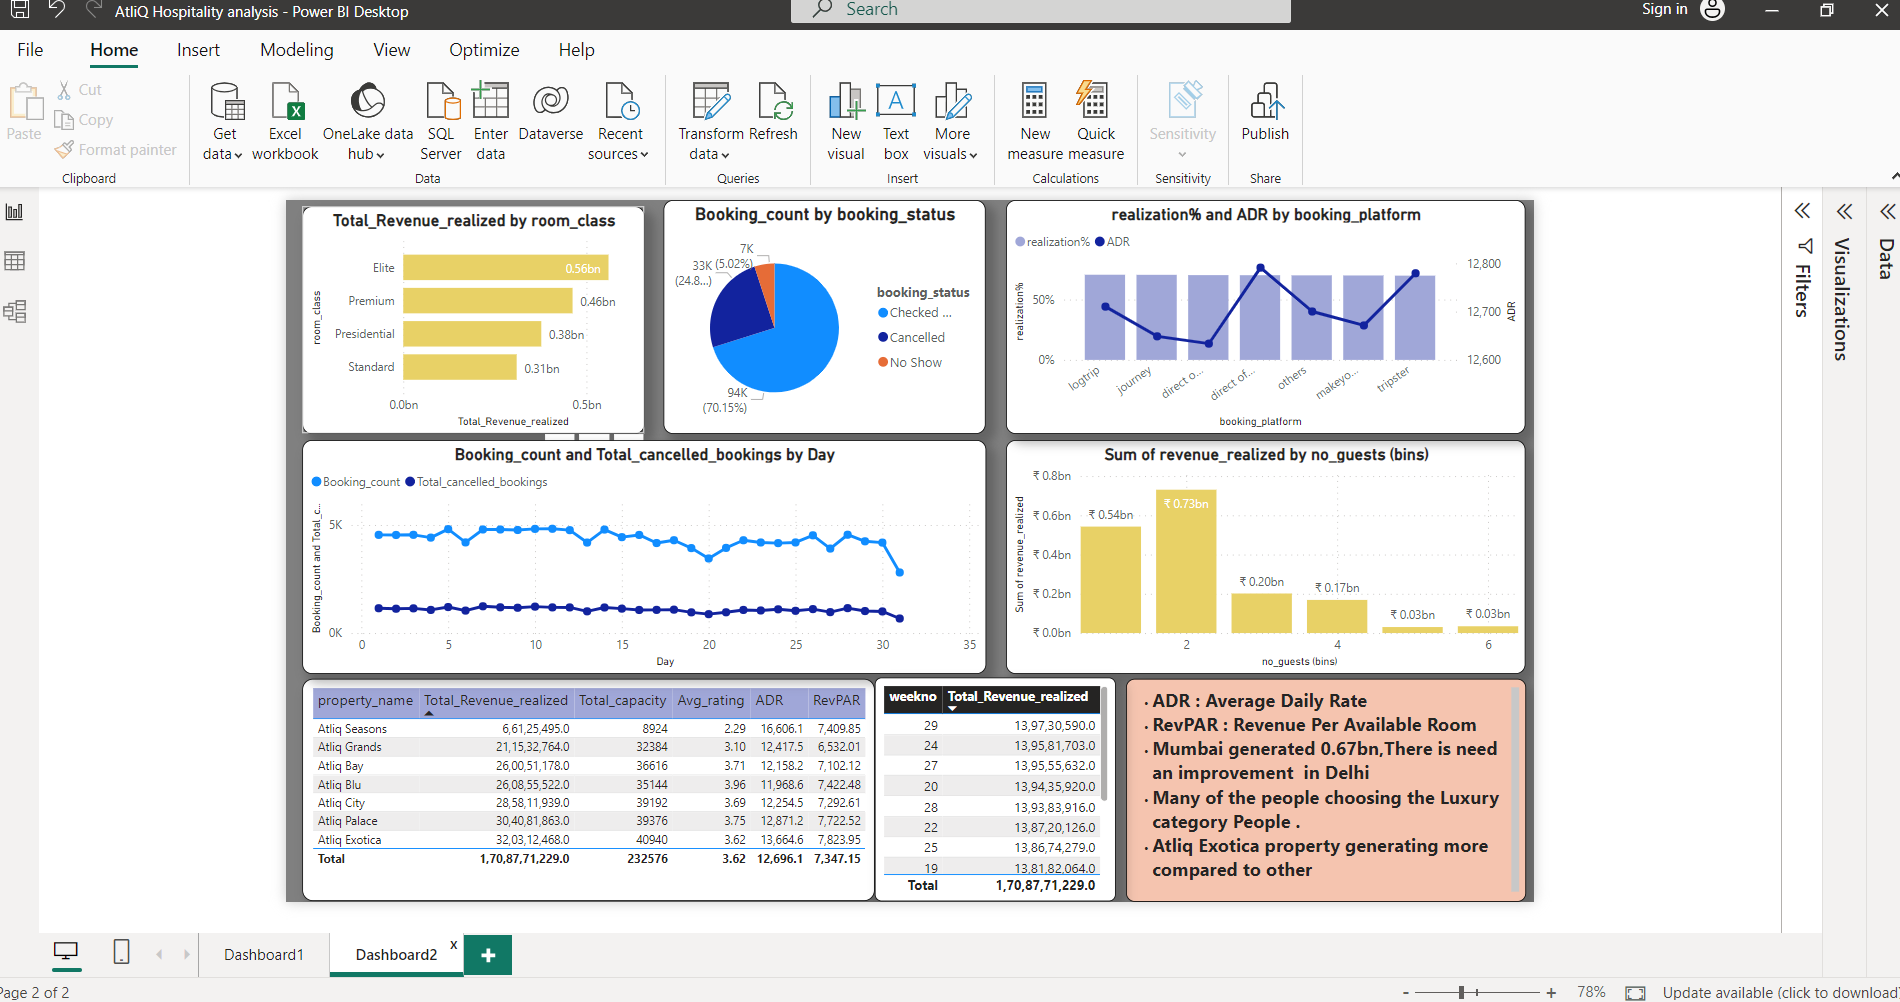

The page's visual inventory and layout, read from the dashboard file:
{"tool":"powerbi","page":{"name":"Dashboard2","canvas":[1280,720],"ordinal":1},"visuals":[{"type":"tableEx","fields":{"Values":["dim_hotels.property_name","Measures table.Total_Revenue_realized","Measures table.Total_capacity","Measures table.Avg_rating","Measures table.ADR","Measures table.RevPAR"]},"box":[16.7,491,587.2,228.2],"z":0},{"type":"columnChart","fields":{"Category":["fact_bookings.no_guests (bins)"],"Y":["Sum(fact_bookings.revenue_realized)"]},"box":[738.8,246.2,532.5,240],"z":1000},{"type":"pieChart","fields":{"Category":["fact_bookings.booking_status"],"Y":["Measures table.Booking_count"]},"box":[387.5,0,330,240],"z":2000},{"type":"barChart","fields":{"Category":["dim_rooms.room_class"],"Y":["Measures table.Total_Revenue_realized"]},"box":[16.2,6.2,351.2,233.8],"z":3000},{"type":"textbox","box":[861.2,491.2,410,228.8],"z":4000},{"type":"lineChart","fields":{"Category":["dim_date.date.Variation.Date Hierarchy.Day"],"Y":["Measures table.Booking_count","Measures table.Total_cancelled_bookings"]},"box":[16.2,246.2,701.2,240],"z":5000},{"type":"lineClusteredColumnComboChart","fields":{"Category":["fact_bookings.booking_platform"],"Y":["Measures table.realization%"],"Y2":["Measures table.ADR"]},"box":[738.8,0,532.5,240],"z":6000},{"type":"tableEx","fields":{"Values":["dim_date.weekno","Measures table.Total_Revenue_realized"]},"box":[603.8,489.7,247.4,229.5],"z":7000}]}

Visuals, with their boxes on the page's 1280x720 design canvas (x1, y1, x2, y2). These are canvas units, not pixel positions in the 1900x1002 screenshot, which may show the page scaled, cropped or inside an application window:
tableEx - dim_hotels.property_name x Measures table.Total_Revenue_realized: 17,491,604,719
columnChart - fact_bookings.no_guests (bins) x Sum(fact_bookings.revenue_realized): 739,246,1271,486
pieChart - fact_bookings.booking_status x Measures table.Booking_count: 388,0,718,240
barChart - dim_rooms.room_class x Measures table.Total_Revenue_realized: 16,6,367,240
textbox: 861,491,1271,720
lineChart - dim_date.date.Variation.Date Hierarchy.Day x Measures table.Booking_count: 16,246,717,486
lineClusteredColumnComboChart - fact_bookings.booking_platform x Measures table.realization%: 739,0,1271,240
tableEx - dim_date.weekno x Measures table.Total_Revenue_realized: 604,490,851,719
